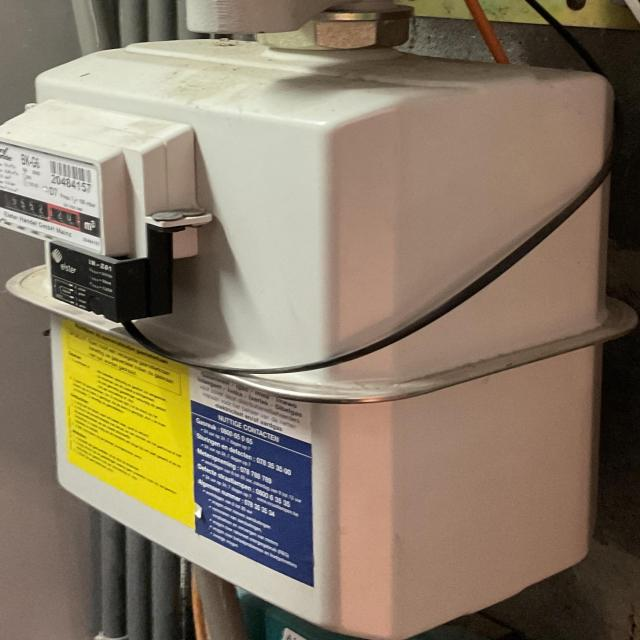gaz_meter: (0, 140, 101, 254)
indication: (0, 190, 80, 231)
